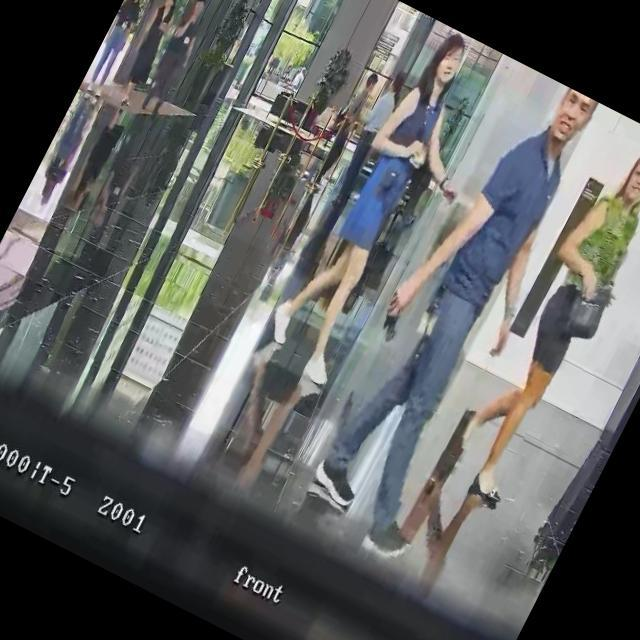person: (285, 59, 626, 564), (253, 18, 524, 407), (436, 129, 640, 518), (325, 67, 413, 212), (135, 0, 218, 119), (307, 68, 383, 195), (78, 0, 155, 99), (117, 0, 189, 95), (288, 64, 309, 94)
